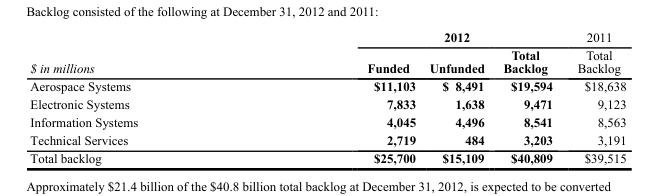table: (29, 29, 625, 165)
table column: (29, 29, 251, 165), (251, 29, 421, 165), (421, 29, 493, 165), (493, 29, 564, 165), (564, 29, 625, 165)
table column header: (29, 29, 625, 76)
table row: (29, 45, 625, 76), (29, 76, 625, 94), (29, 94, 625, 112), (29, 112, 625, 130), (29, 130, 625, 148), (29, 148, 625, 165), (29, 29, 625, 45)
table spanning cell: (29, 29, 251, 76), (251, 29, 564, 45), (564, 29, 625, 76)
